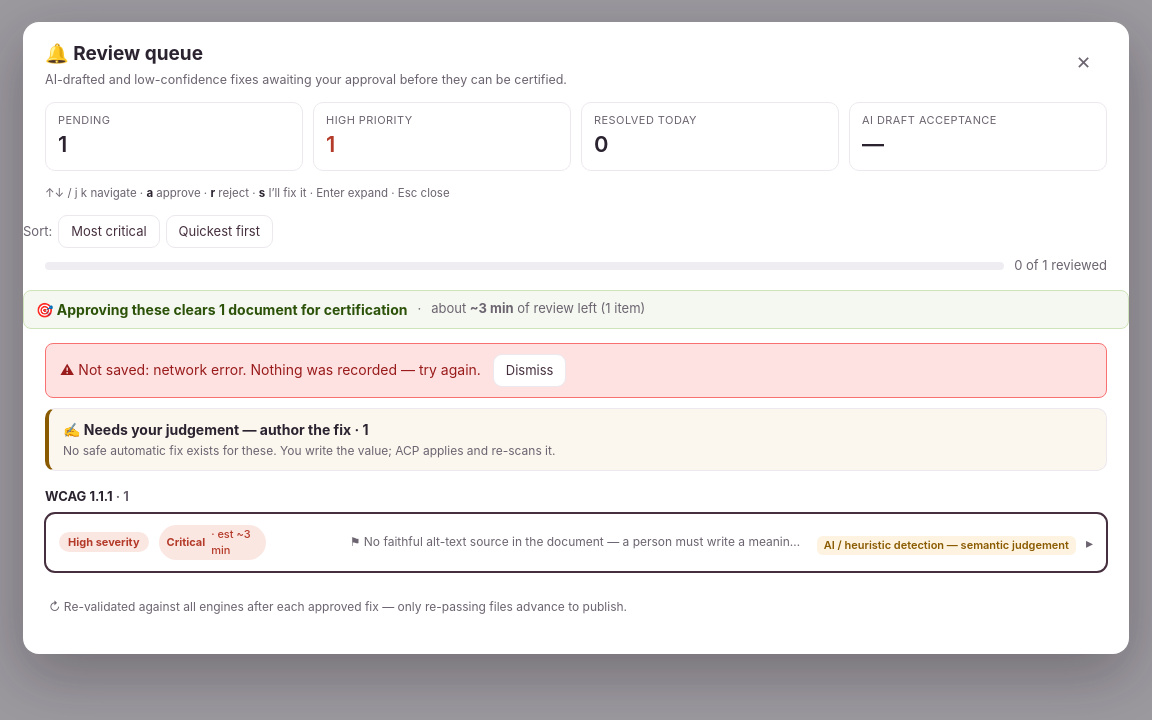
Test case: ReviewCenter — approval error display › clears the error banner when Dismiss is clicked
This screenshot has width=1152, height=720.
expect the message "⚠ Not saved: network error. Nothing was recorded — try again. Dismiss" is shown: met, box [45,343,1107,398]
Step 1. Click the button "Dismiss" → {"x": 530, "y": 370}, box [493,354,566,387]
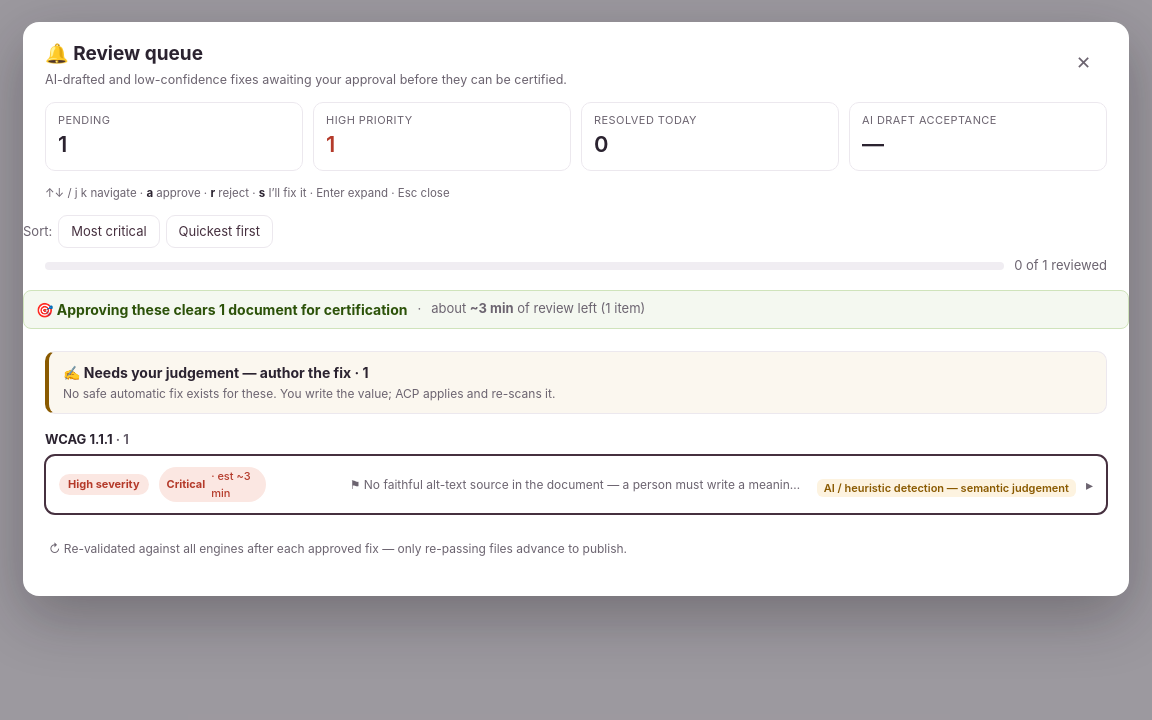
expect the message "⚠ Not saved: network error. Nothing was recorded — try again. Dismiss" is gone: met
